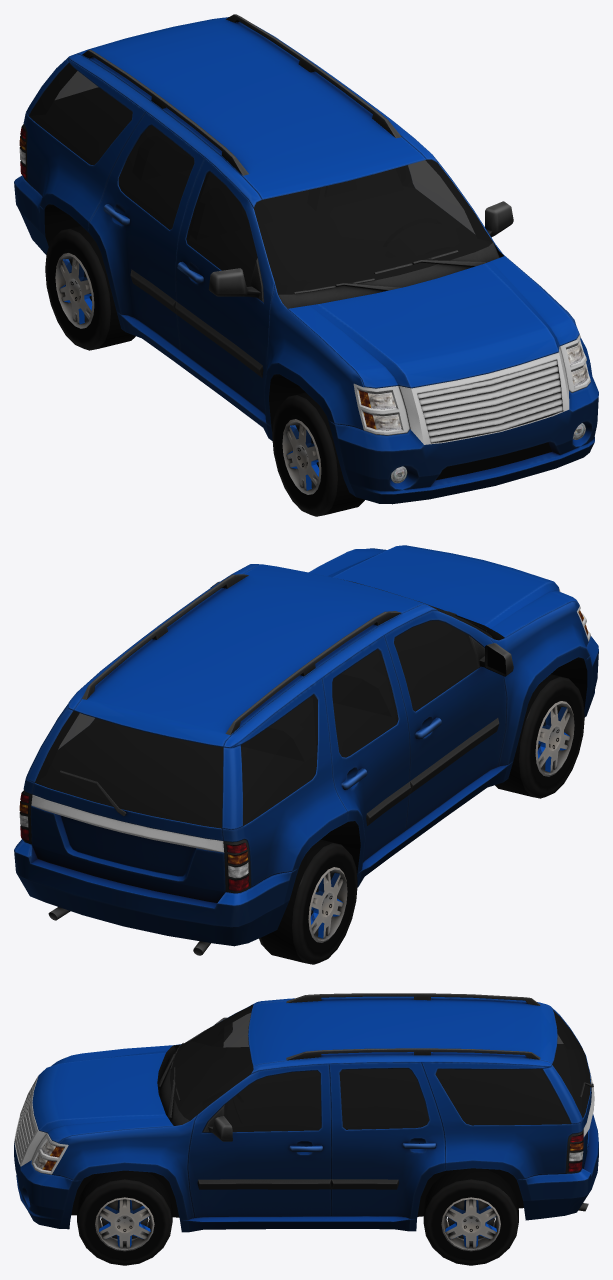
The model's file is SUV.FBX.
3 views of the same model, one above another, from view 1: azimuth 30°, elevation 25°; view 2: azimuth 150°, elevation 25°; view 3: azimuth 270°, elevation 25° (orthographic). The views are drawn at different scales.
Visible parts, largest first — view 1: SUV Body, Wheel_E003, Wheel_E002; view 2: SUV Body, Wheel_E003, Wheel_E002; view 3: SUV Body, Wheel_E001, Wheel_E.
Part boxes in pixels (x1,y1,x2,y2): SUV Body: (14, 14, 598, 504); Wheel_E003: (45, 225, 135, 350); Wheel_E002: (272, 392, 364, 516); SUV Body: (14, 545, 598, 955); Wheel_E003: (259, 839, 357, 964); Wheel_E002: (495, 674, 584, 798); SUV Body: (14, 993, 598, 1232); Wheel_E001: (423, 1168, 518, 1265); Wheel_E: (77, 1170, 172, 1265).
Bounding box in the file's own units: 2327 × 1950 × 5189.
4 materials, 3 textured.
